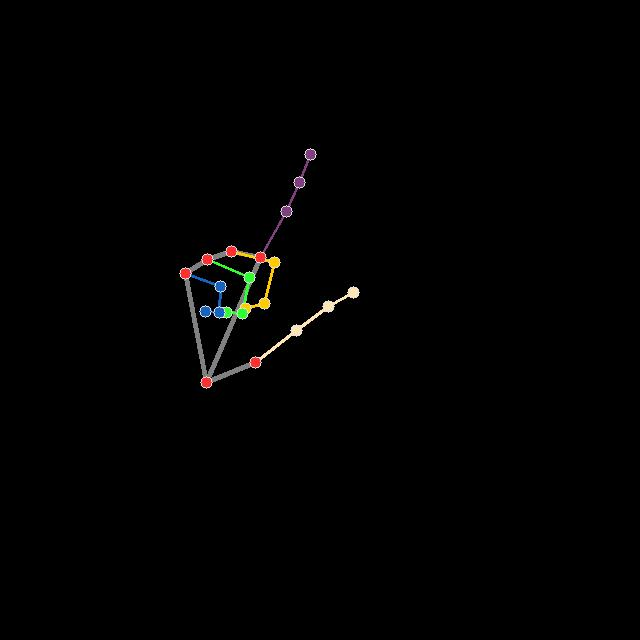gun: (176, 144, 366, 389)
